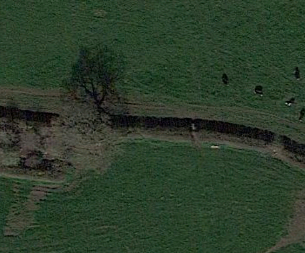tree: (46, 96, 133, 182)
